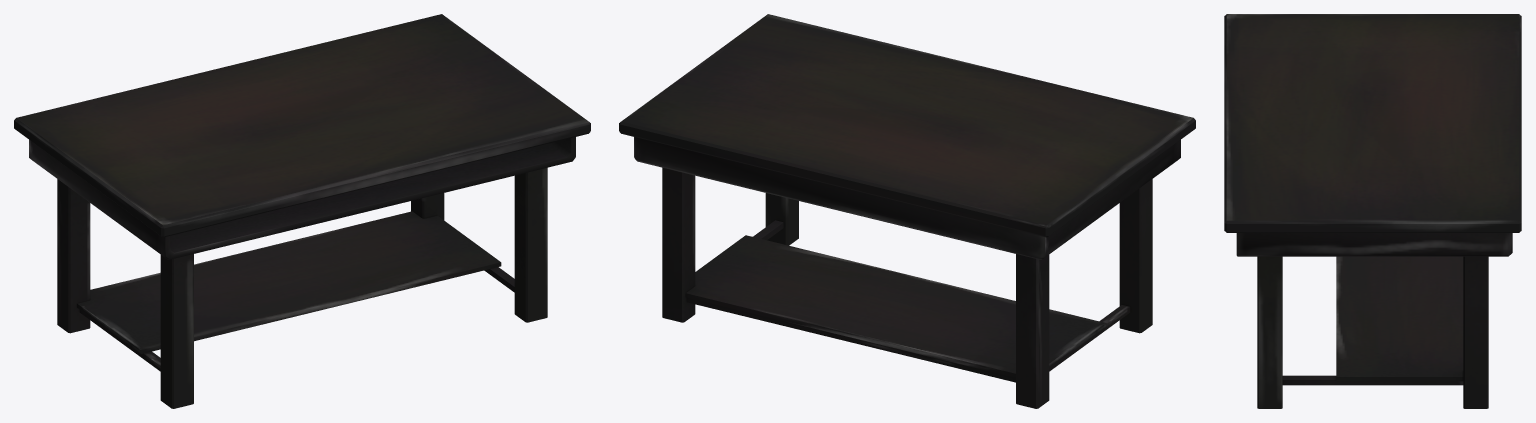
File: TeacherDesk.fbx
The picture shows the model from 3 angles, left to right: view 1: azimuth 30°, elevation 25°; view 2: azimuth 150°, elevation 25°; view 3: azimuth 270°, elevation 25°; orthographic projection.
Visible parts, largest first — view 1: teacherDesk.001|teacherDesk_L_teacherDesk.blend|Dupli|; view 2: teacherDesk.001|teacherDesk_L_teacherDesk.blend|Dupli|; view 3: teacherDesk.001|teacherDesk_L_teacherDesk.blend|Dupli|.
Boxes of the visible parts, bbox=[...] form: teacherDesk.001|teacherDesk_L_teacherDesk.blend|Dupli|: bbox=[14, 14, 590, 408]; teacherDesk.001|teacherDesk_L_teacherDesk.blend|Dupli|: bbox=[619, 14, 1195, 408]; teacherDesk.001|teacherDesk_L_teacherDesk.blend|Dupli|: bbox=[1224, 14, 1521, 408].
Bounding box in the file's own units: 177 × 78.98 × 106.
